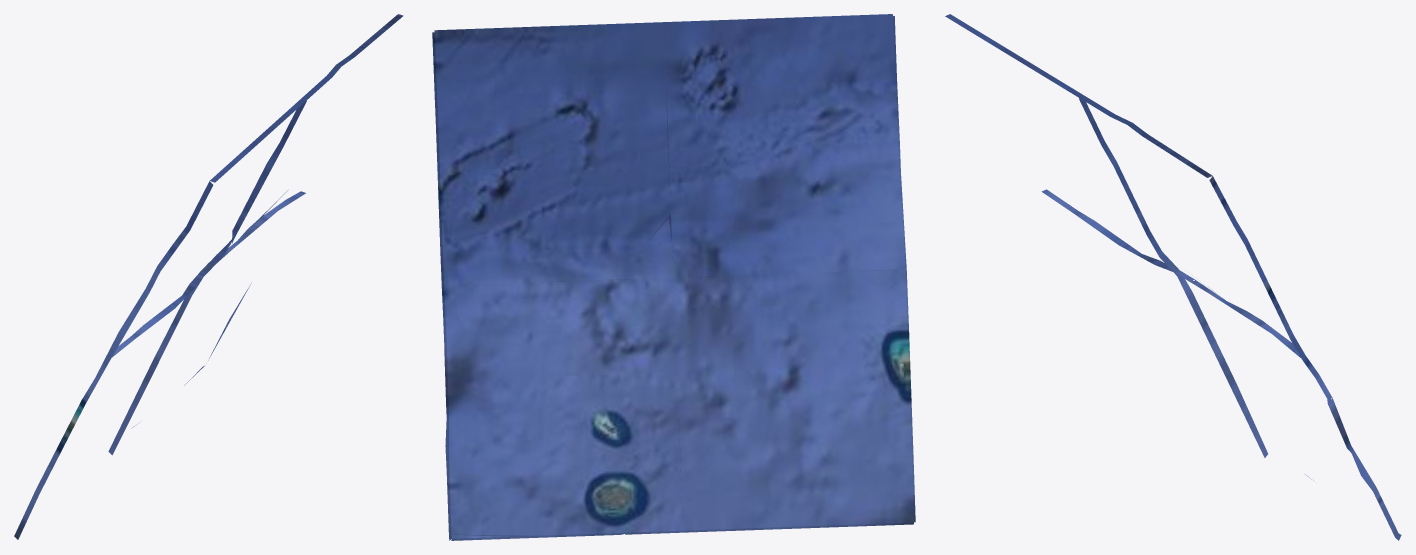
The picture shows the model from 3 angles, left to right: view 1: azimuth 30°, elevation 25°; view 2: azimuth 150°, elevation 25°; view 3: azimuth 270°, elevation 25°; orthographic projection. The views are drawn at different scales.
Size of the model in its own units: 79301 by 71069 by 70122.
1 material, 1 textured.
